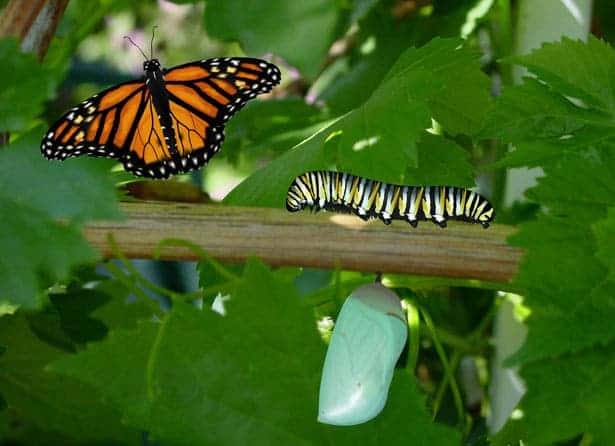Butterfly: (39, 24, 282, 180)
Caterpillar: (284, 168, 498, 231)
